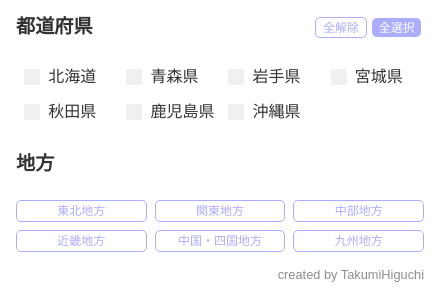
oragnisms/Sidebarのテスト › 全選択ボタンをクリック時に全てのチェックボックスがチェック状態になること
Click the button "全選択" at (397, 28), box x1=372 y1=18 x2=421 y2=37
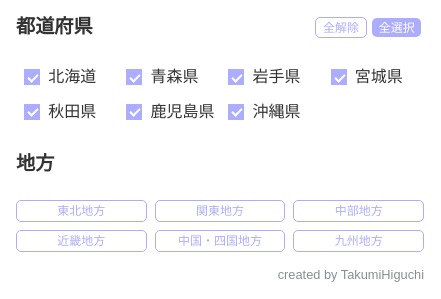
Now the checkbox labelled "北海道" is checked, box x1=16 y1=60 x2=101 y2=94
Now the checkbox labelled "青森県" is checked, box x1=118 y1=60 x2=203 y2=94
Now the checkbox labelled "岩手県" is checked, box x1=220 y1=60 x2=306 y2=94
